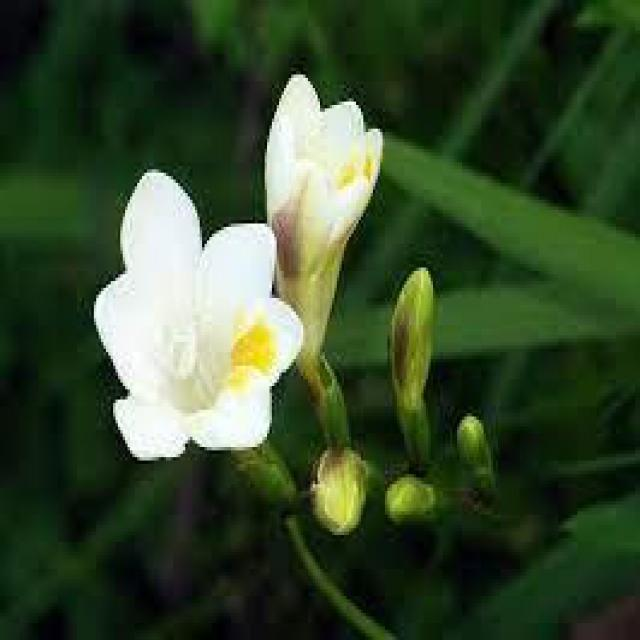freesia: (80, 150, 308, 484), (232, 44, 388, 397)
